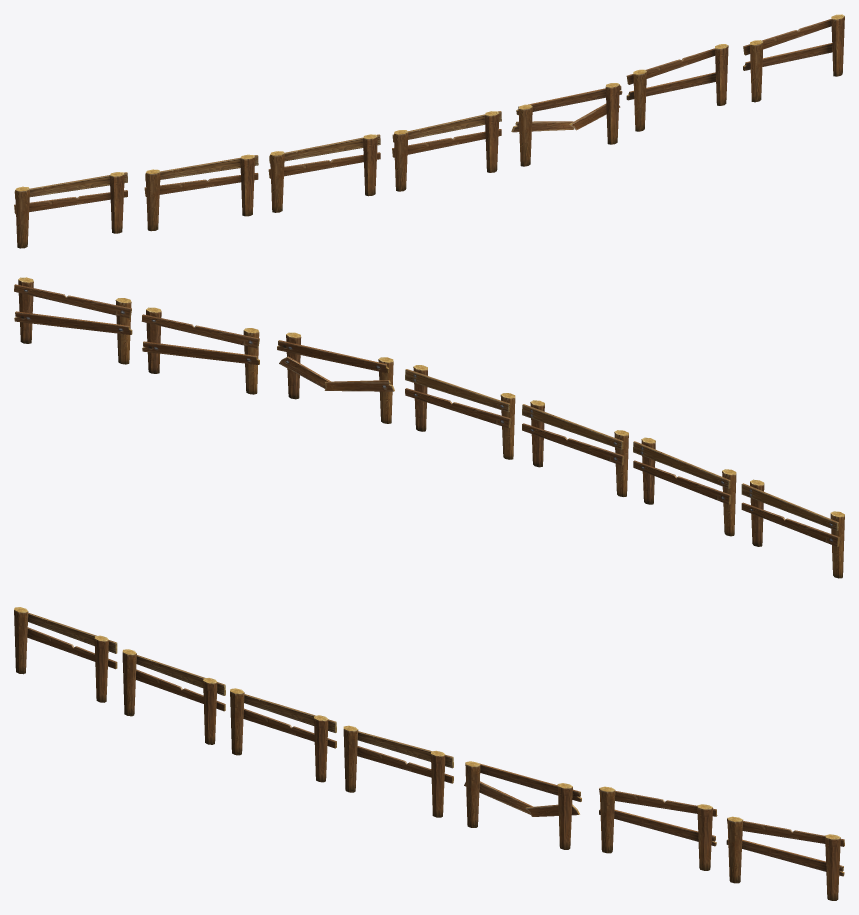
File: Area_09_28.fbx
3 views of the same model, one above another, from view 1: azimuth 30°, elevation 25°; view 2: azimuth 150°, elevation 25°; view 3: azimuth 330°, elevation 25° (orthographic). The views are drawn at different scales.
Visible parts, largest first — view 1: Area_09_28; view 2: Area_09_28; view 3: Area_09_28.
Boxes of the visible parts, <box> form: Area_09_28: <box>14,14,844,248</box>; Area_09_28: <box>14,277,844,578</box>; Area_09_28: <box>14,607,844,900</box>.
Bounding box in the file's own units: 2010 × 147 × 216.
